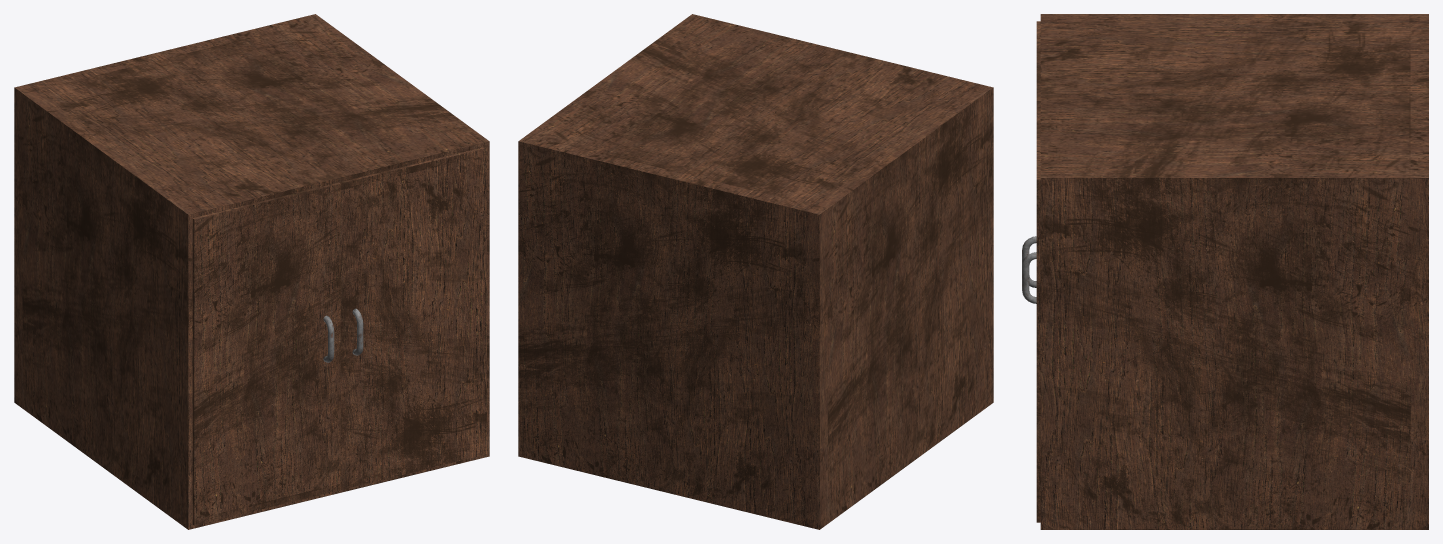
File: fali_szerkeny.obj
3 views of the same model, side by side, from view 1: azimuth 30°, elevation 25°; view 2: azimuth 150°, elevation 25°; view 3: azimuth 270°, elevation 25° (orthographic). The views are drawn at different scales.
Visible parts, largest first — view 1: Cube_Cube.001, Cube.003_Cube.004, Cube.001_Cube.002; view 2: Cube_Cube.001; view 3: Cube_Cube.001, Cube.001_Cube.002, Cube.003_Cube.004.
Boxes of the visible parts, <box> form: Cube_Cube.001: <box>14,14,489,529</box>; Cube.003_Cube.004: <box>192,182,340,525</box>; Cube.001_Cube.002: <box>339,147,486,489</box>; Cube_Cube.001: <box>518,14,993,529</box>; Cube_Cube.001: <box>1040,14,1428,529</box>; Cube.001_Cube.002: <box>1022,101,1040,522</box>; Cube.003_Cube.004: <box>1022,21,1040,287</box>.
Size of the model in its own units: 0.5807 by 0.5807 by 0.6083.
